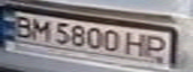0: (84, 25, 106, 51), (103, 27, 124, 54)
5: (51, 19, 72, 46)
8: (66, 23, 87, 48)
B: (9, 12, 36, 38)
H: (124, 29, 151, 58)
M: (27, 16, 54, 42)
P: (142, 34, 172, 65)
